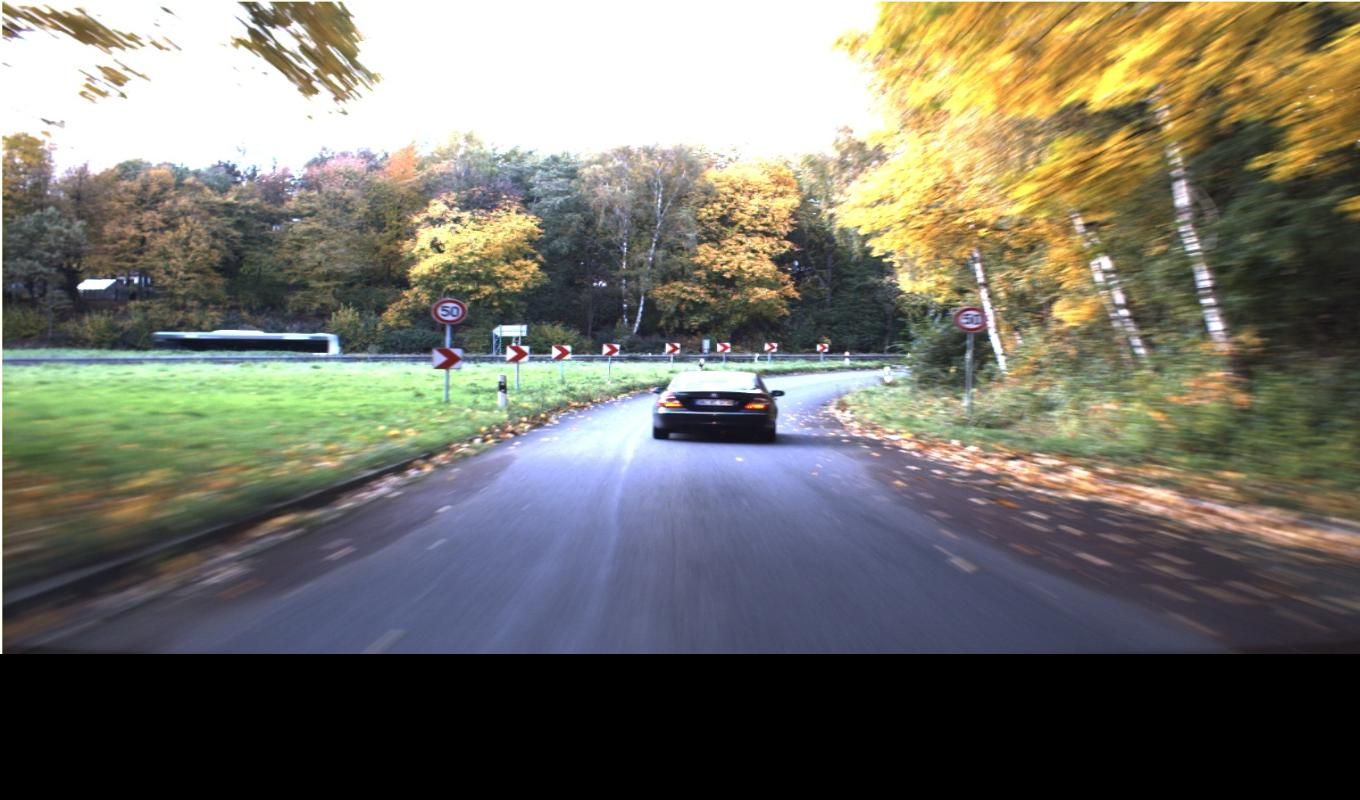speed limit 50: (431, 299, 986, 331)
